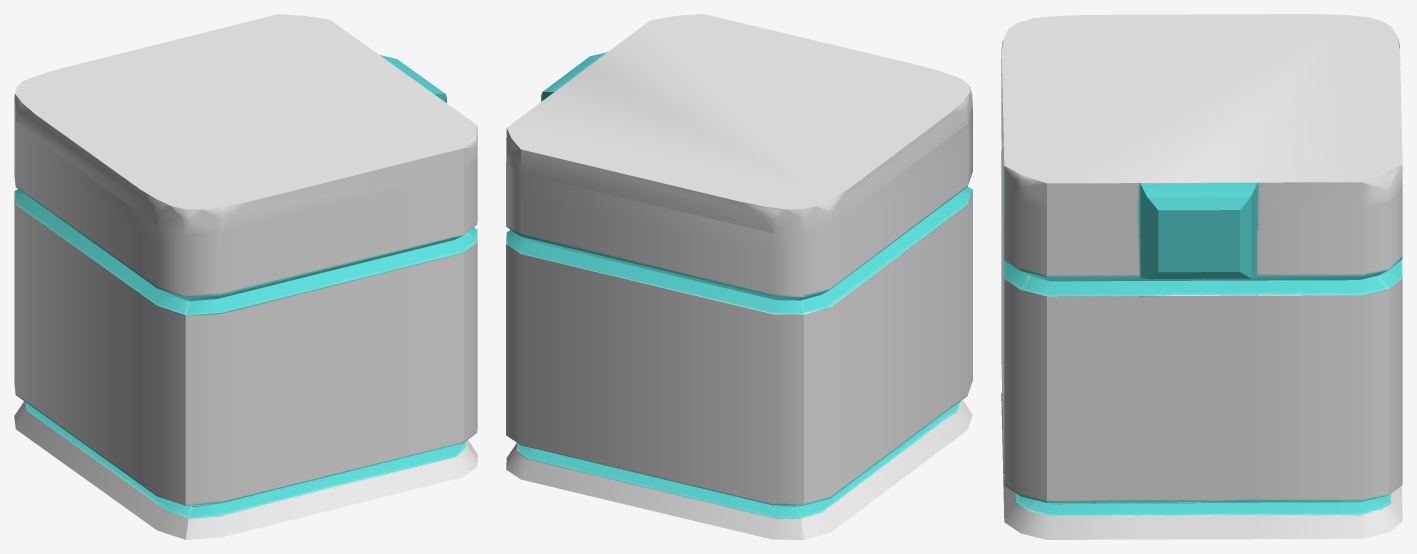
File: Container.fbx
The picture shows the model from 3 angles, left to right: view 1: azimuth 30°, elevation 25°; view 2: azimuth 150°, elevation 25°; view 3: azimuth 270°, elevation 25°; orthographic projection. The views are drawn at different scales.
Visible parts, largest first — view 1: Box001; view 2: Box001; view 3: Box001.
Part boxes in pixels (bbox=[...]): Box001: bbox=[14, 14, 477, 539]; Box001: bbox=[506, 14, 972, 539]; Box001: bbox=[1001, 14, 1402, 539].
Size of the model in its own units: 89.46 by 82.38 by 84.04.
1 material, 1 textured.
